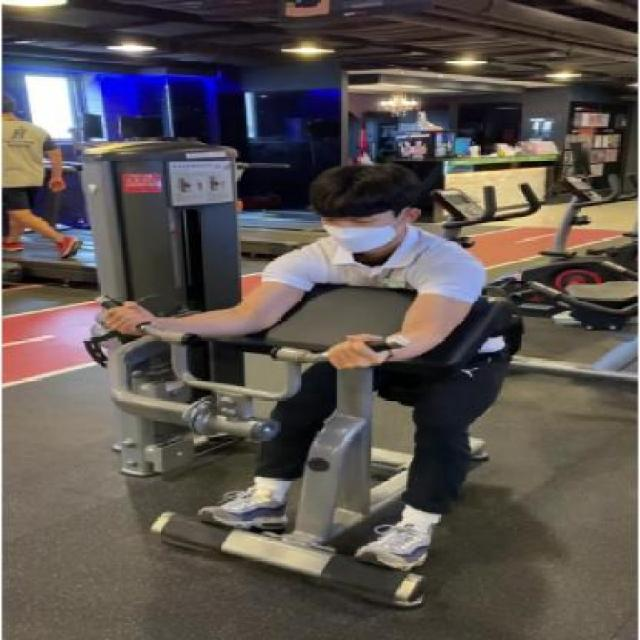arm curl machine: (89, 283, 528, 611)
